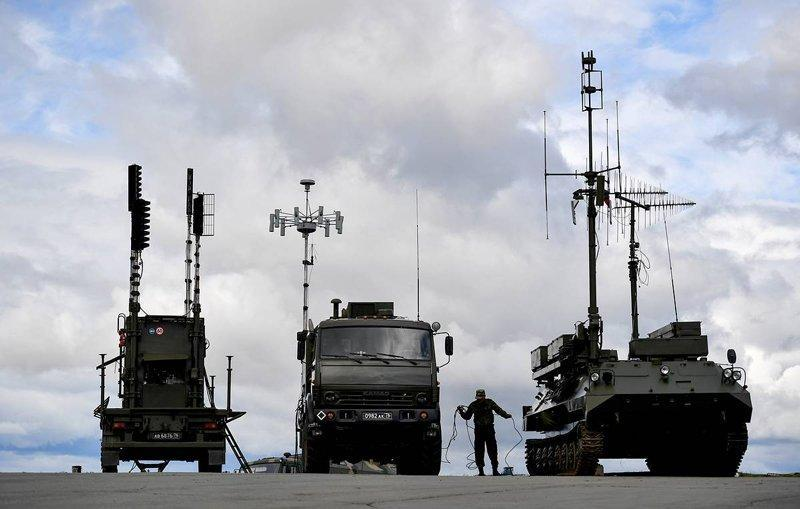person: (465, 380, 509, 475)
tank: (515, 324, 759, 501)
truck: (262, 300, 456, 480)
